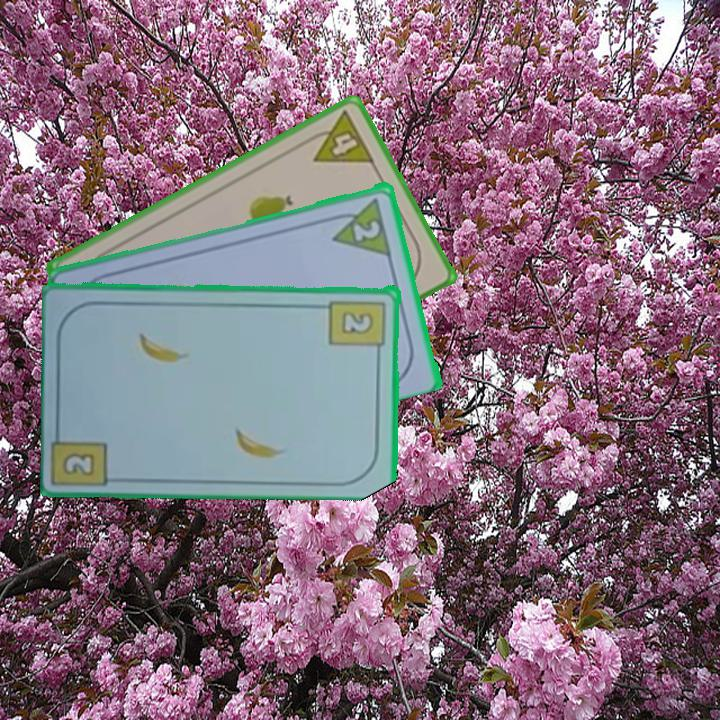2b: (327, 296, 388, 358), (59, 449, 99, 478)
2p: (350, 216, 383, 244)
4p: (300, 106, 378, 167)
